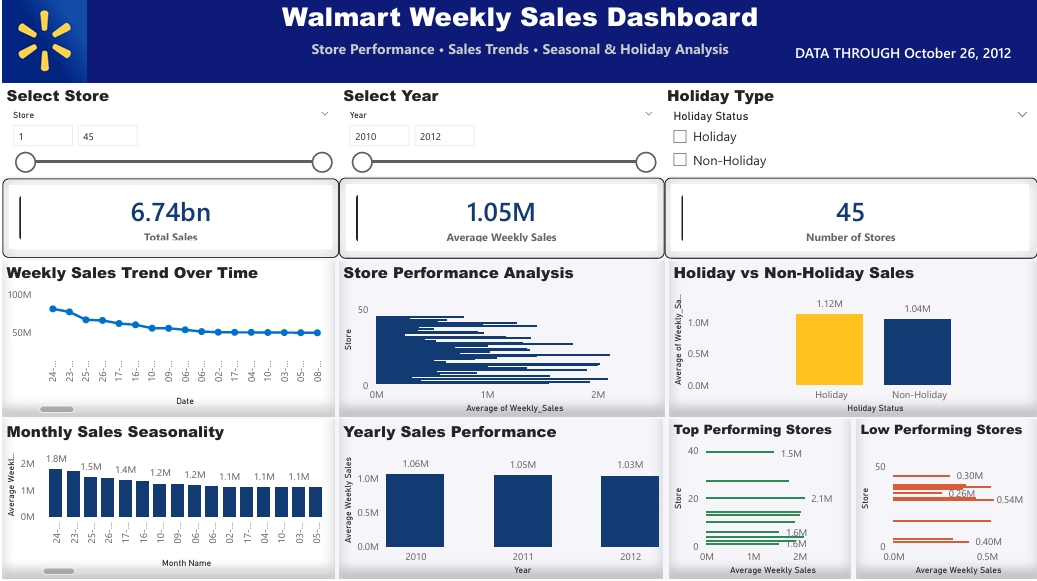

The page's visual inventory and layout, read from the dashboard file:
{"tool":"powerbi","page":{"name":"Page 1","canvas":[1280,720],"ordinal":0},"visuals":[{"type":"cardVisual","fields":{"Data":["Walmart.Total Sales"]},"box":[0,226.1,416.2,97.9],"z":0},{"type":"cardVisual","fields":{"Data":["Walmart.Average Weekly Sales"]},"box":[416.2,224.6,401.8,100],"z":1000},{"type":"cardVisual","fields":{"Data":["Walmart.Number of Stores"]},"box":[817.9,224.6,460.8,100],"z":2000},{"type":"lineChart","title":"Weekly Sales Trend Over Time","fields":{"Y":["Sum(Walmart.Weekly_Sales)"],"Category":["Walmart.Date"]},"box":[0,328.3,410.4,191.5],"z":3000},{"type":"clusteredBarChart","title":"Store Performance Analysis","fields":{"Category":["Walmart.Store"],"Y":["Avg(Walmart.Weekly_Sales)"]},"box":[416.2,328.3,401.8,191.5],"z":4000},{"type":"clusteredColumnChart","title":"Holiday vs Non-Holiday Sales","fields":{"Category":["Walmart.Holiday Status"],"Y":["Avg(Walmart.Weekly_Sales)"]},"box":[823.7,328.3,455,191.5],"z":5000},{"type":"clusteredColumnChart","title":"Monthly Sales Seasonality","fields":{"Category":["Walmart.Month Name"],"Y":["Walmart.Average Weekly Sales"]},"box":[0,524.2,410.4,195.8],"z":6000},{"type":"clusteredBarChart","title":"Top Performing Stores","fields":{"Category":["Walmart.Store"],"Y":["Walmart.Average Weekly Sales"]},"box":[823.7,524.2,224.6,195.8],"z":7000},{"type":"clusteredColumnChart","title":"Yearly Sales Performance","fields":{"Category":["Walmart.Year"],"Y":["Walmart.Average Weekly Sales"]},"box":[416.2,524.2,400.3,195.8],"z":8000},{"type":"clusteredBarChart","title":"Low Performing Stores","fields":{"Category":["Walmart.Store"],"Y":["Walmart.Average Weekly Sales"]},"box":[1055.3,524.2,224.6,195.8],"z":9000},{"type":"slicer","title":"Select Store","fields":{"Values":["Walmart.Store"]},"box":[0,109.4,416.2,113.8],"z":10000},{"type":"slicer","title":"Select Year","fields":{"Values":["Walmart.Year"]},"box":[416.2,109.4,400.3,113.8],"z":11000},{"type":"slicer","title":"Holiday Type","fields":{"Values":["Walmart.Holiday Status"]},"box":[816.5,109.4,462.2,113.8],"z":12000},{"type":"textbox","title":"Walmart Weekly Sales Dashboard","box":[0,2.9,1278.7,106.6],"z":13000},{"type":"image","box":[0,4.3,103.7,103.7],"z":14000},{"type":"cardVisual","fields":{"Data":["Walmart.Data Through"]},"box":[950.4,27.4,328.3,82.1],"z":15000}]}

Visuals, with their boxes in screenshot pixels (x1, y1, x2, y2), scaled from the page's 1280x720 canvas onto the 1037x581 screenshot:
cardVisual - Walmart.Total Sales: 0, 182, 337, 261
cardVisual - Walmart.Average Weekly Sales: 337, 181, 663, 262
cardVisual - Walmart.Number of Stores: 663, 181, 1036, 262
"Weekly Sales Trend Over Time" lineChart: 0, 265, 332, 419
"Store Performance Analysis" clusteredBarChart: 337, 265, 663, 419
"Holiday vs Non-Holiday Sales" clusteredColumnChart: 667, 265, 1036, 419
"Monthly Sales Seasonality" clusteredColumnChart: 0, 423, 332, 580
"Top Performing Stores" clusteredBarChart: 667, 423, 849, 580
"Yearly Sales Performance" clusteredColumnChart: 337, 423, 661, 580
"Low Performing Stores" clusteredBarChart: 855, 423, 1036, 580
"Select Store" slicer: 0, 88, 337, 180
"Select Year" slicer: 337, 88, 661, 180
"Holiday Type" slicer: 661, 88, 1036, 180
"Walmart Weekly Sales Dashboard" textbox: 0, 2, 1036, 88
image: 0, 3, 84, 87
cardVisual - Walmart.Data Through: 770, 22, 1036, 88
